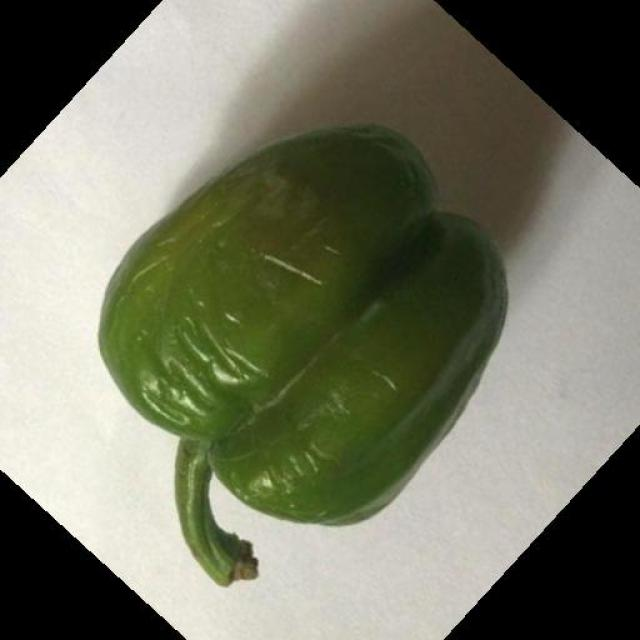Stale_Capsicum: (84, 147, 478, 629)
